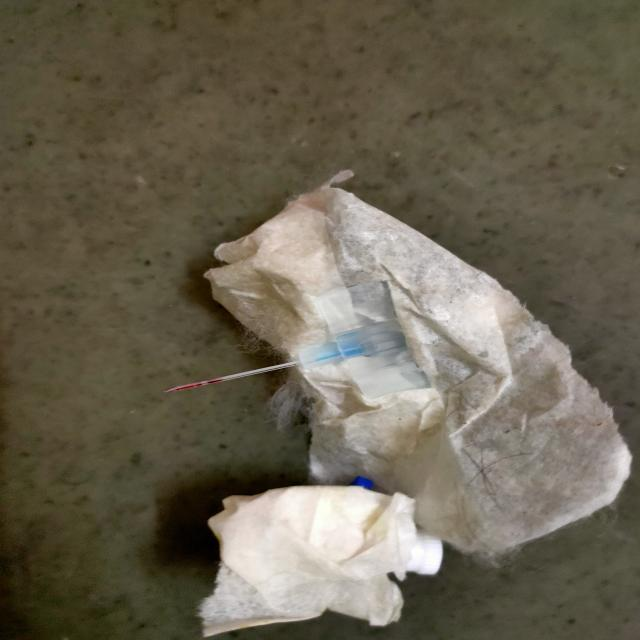B3: (165, 310, 408, 400)
